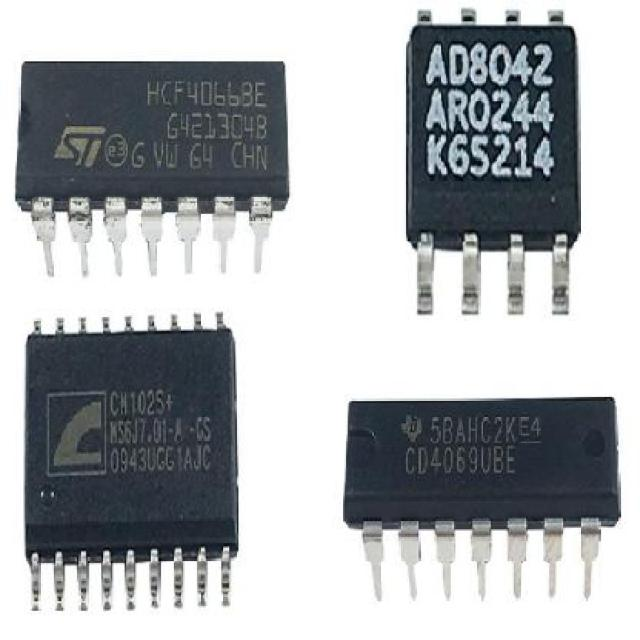IC chip: (23, 325, 240, 565), (14, 60, 291, 211), (405, 22, 582, 254), (345, 397, 622, 528)
